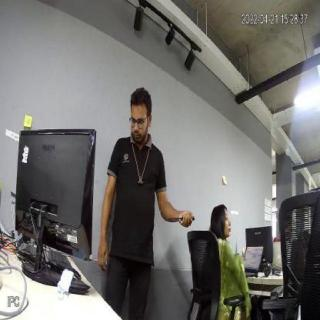knife: (166, 208, 186, 226)
